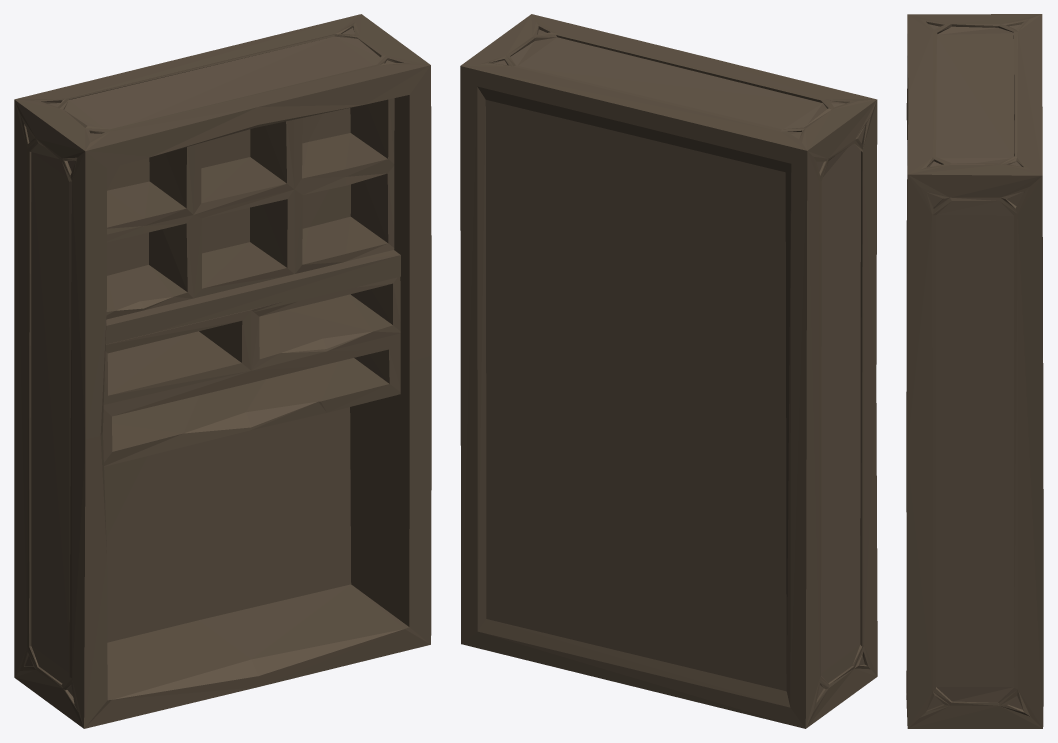
File: SFHW_Shelving_010.fbx
The picture shows the model from 3 angles, left to right: view 1: azimuth 30°, elevation 25°; view 2: azimuth 150°, elevation 25°; view 3: azimuth 270°, elevation 25°; orthographic projection. The views are drawn at different scales.
Parts seen in each view (by area): view 1: SFHW_Shelving_010; view 2: SFHW_Shelving_010; view 3: SFHW_Shelving_010.
Part boxes in pixels (x1,y1,x2,y2): SFHW_Shelving_010: [14, 14, 431, 728]; SFHW_Shelving_010: [460, 14, 877, 728]; SFHW_Shelving_010: [906, 14, 1043, 728].
Size of the model in its own units: 96.71 by 154 by 34.58.
